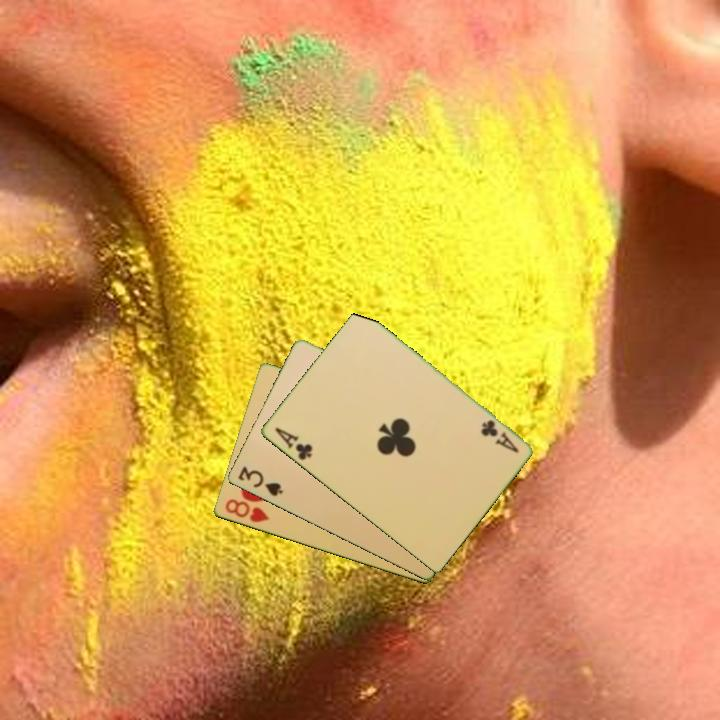3s: (234, 463, 286, 500)
8h: (221, 495, 272, 526)
Ac: (477, 416, 521, 456), (271, 424, 315, 463)
